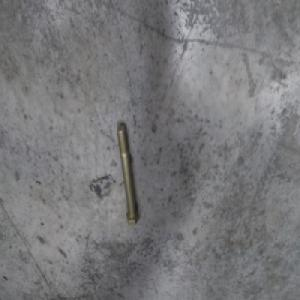Bolt: (117, 121, 138, 225)
